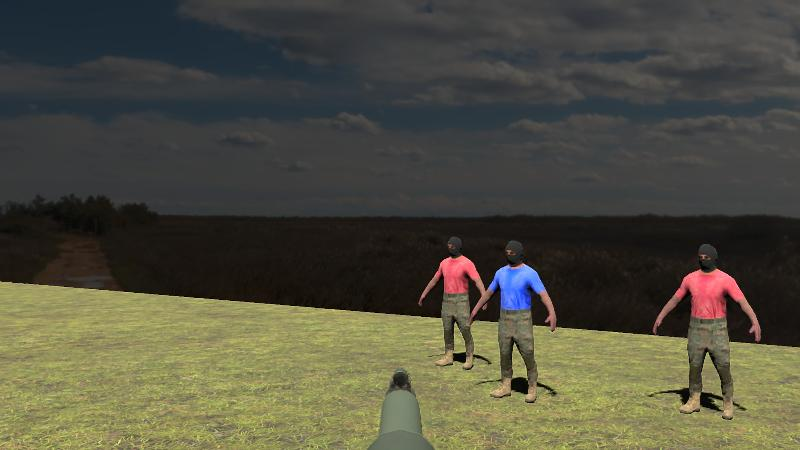Human: (653, 242, 760, 419), (470, 238, 557, 404), (419, 235, 485, 369)
